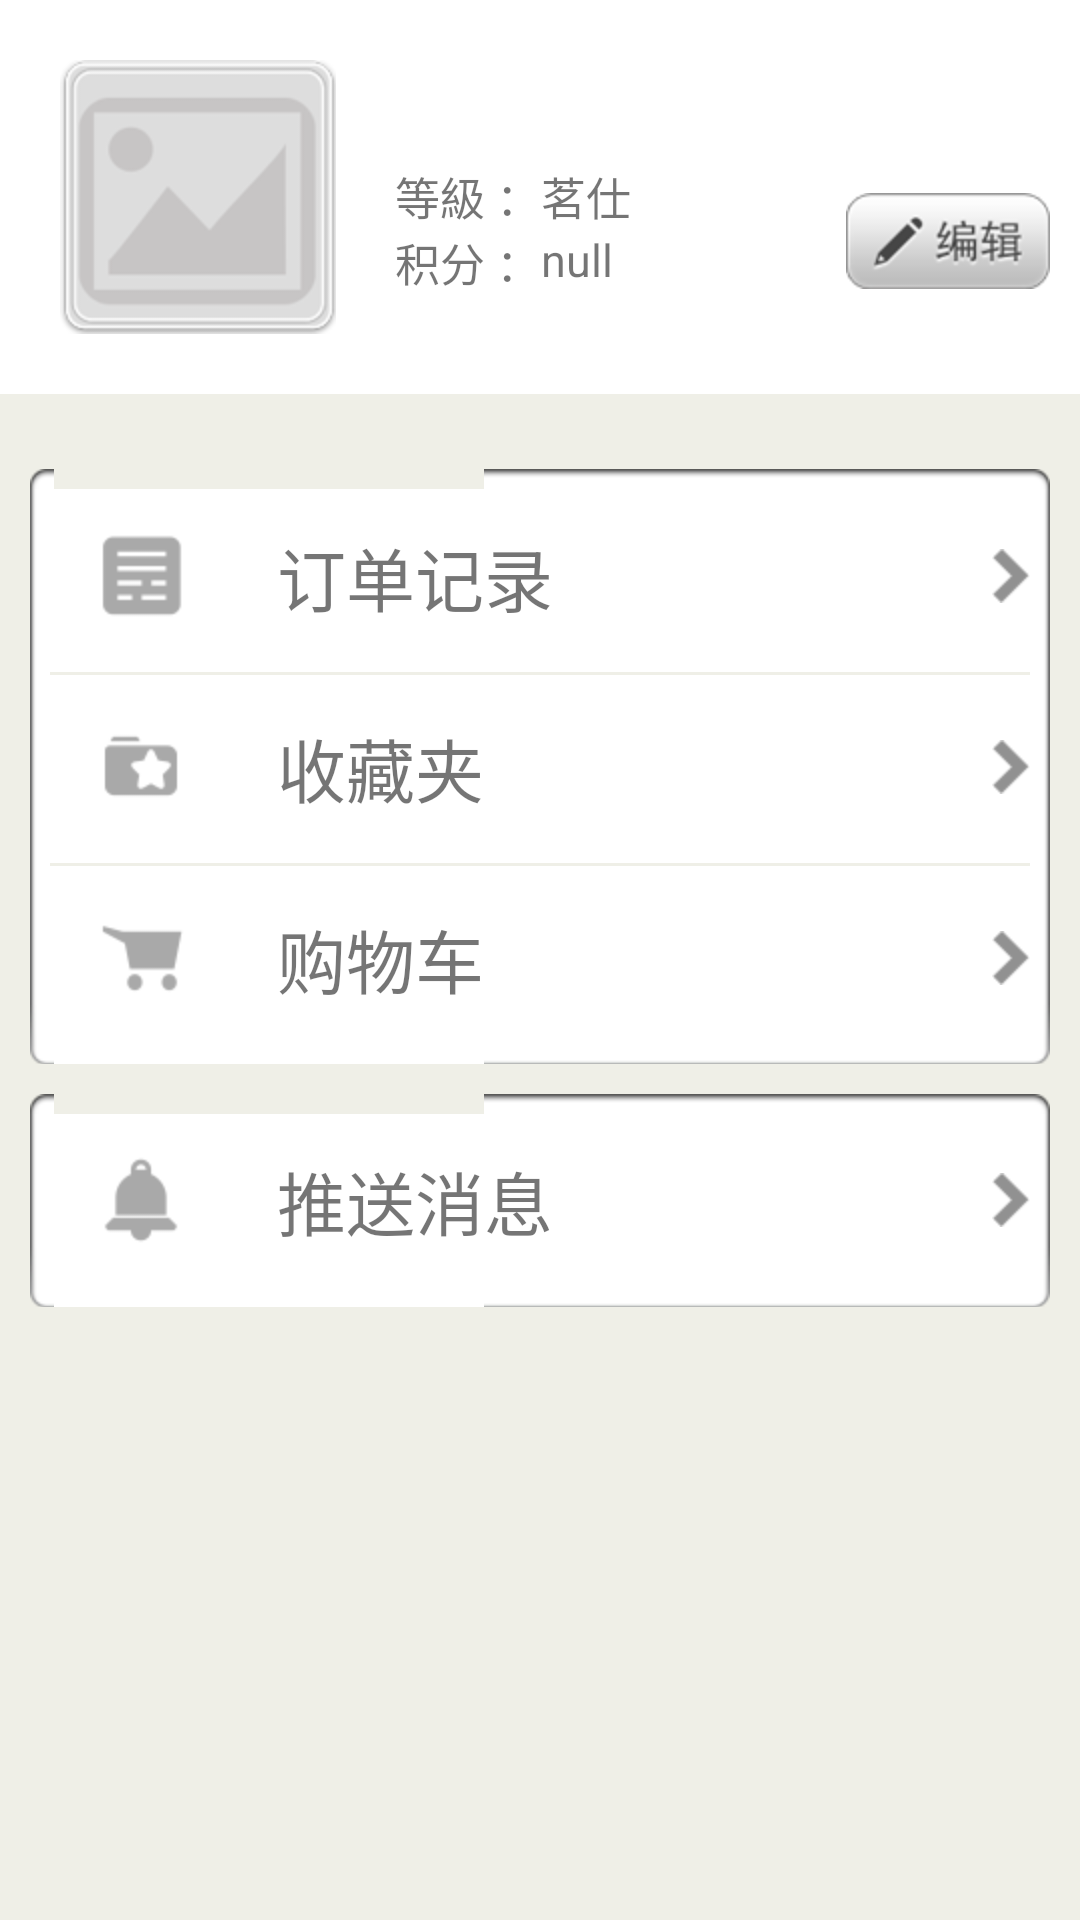

Locate icon controls on the screen. Image size 1080x1920, boxes as (x1=x1, y1=y1, x2=x2, y2=y2).
chevron: (x1=993, y1=549, x2=1029, y2=603), (x1=993, y1=740, x2=1029, y2=794), (x1=993, y1=931, x2=1029, y2=985), (x1=993, y1=1173, x2=1029, y2=1227)
mine favorite: (x1=105, y1=736, x2=177, y2=796)
mine orderlist: (x1=103, y1=536, x2=181, y2=615)
mine push notification: (x1=105, y1=1159, x2=177, y2=1241)
mine shopping cart: (x1=102, y1=926, x2=182, y2=991)
no picture: (x1=63, y1=60, x2=336, y2=334)
